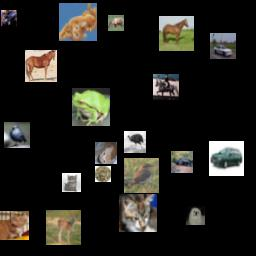automobile: (209, 141, 244, 176), (210, 33, 236, 59), (1, 10, 17, 26)
bird: (124, 158, 159, 193), (4, 122, 30, 148), (124, 131, 146, 153)
cat: (59, 3, 97, 41), (119, 194, 157, 232), (0, 211, 29, 240), (95, 142, 117, 164), (62, 173, 81, 192), (95, 166, 111, 182)
deer: (46, 210, 81, 245), (108, 15, 124, 31)
dog: (186, 206, 205, 225)
frog: (72, 88, 110, 126)
truck: (171, 151, 193, 173)
